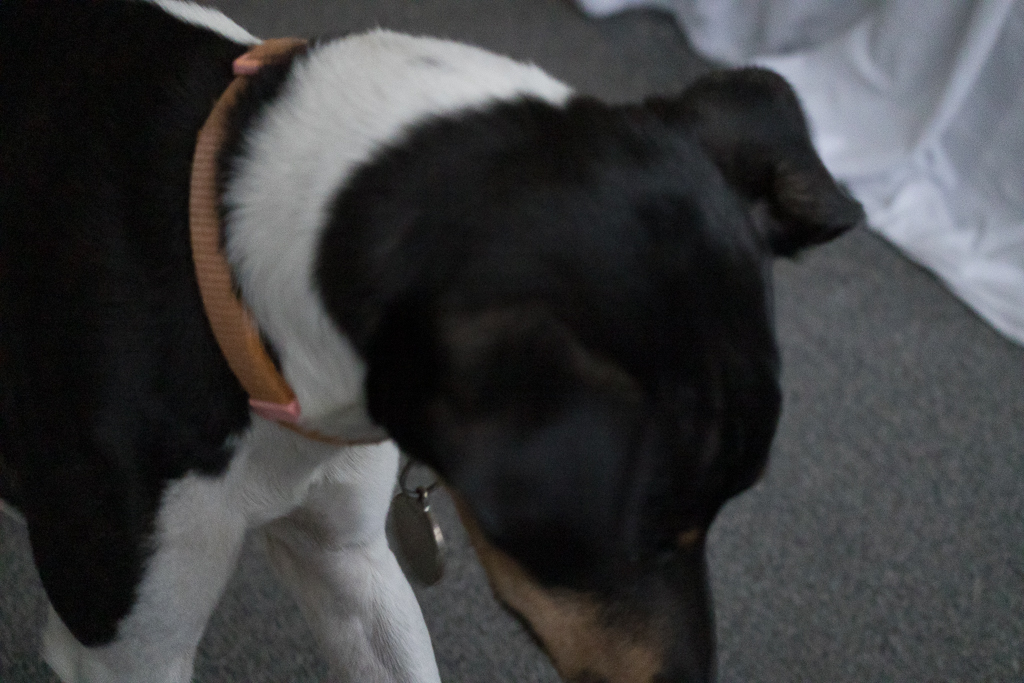Dog: (0, 0, 875, 683)
